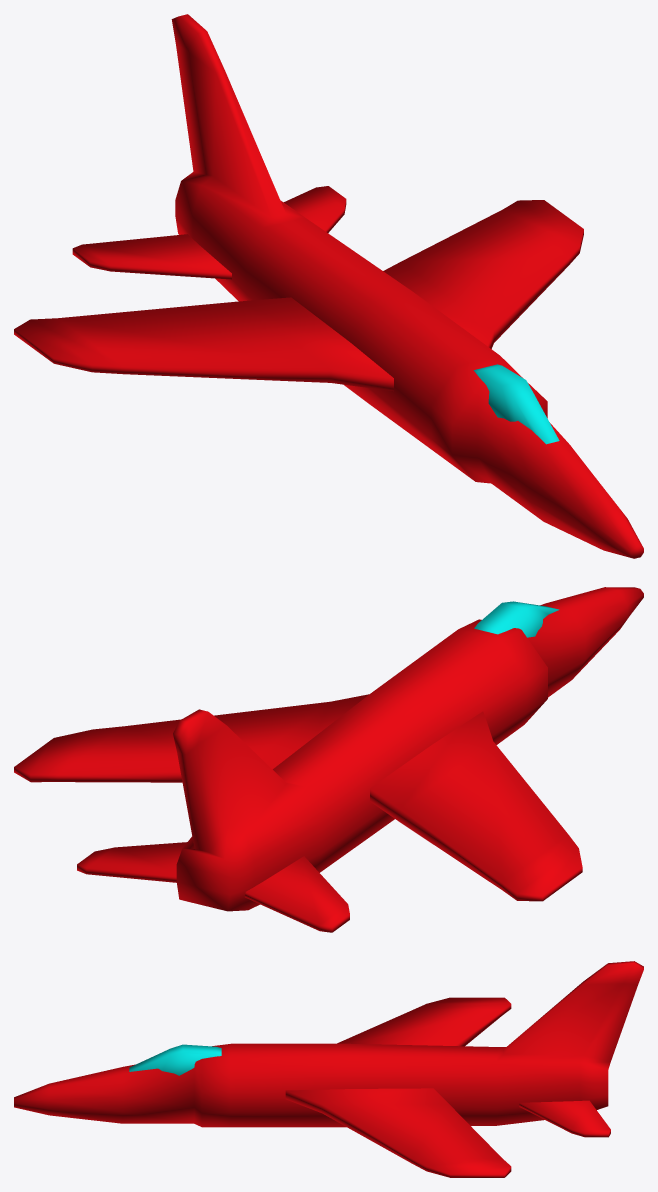
File: jetfighter.glb
The picture shows the model from 3 angles, top to bottom: view 1: azimuth 30°, elevation 25°; view 2: azimuth 150°, elevation 25°; view 3: azimuth 270°, elevation 25°; orthographic projection. The views are drawn at different scales.
Visible parts, largest first — view 1: JF Fuselage, JF Wing, JF Tail, JF Cockpit; view 2: JF Fuselage, JF Wing, JF Tail, JF Cockpit; view 3: JF Fuselage, JF Wing, JF Tail, JF Cockpit.
Part boxes in pixels (x1,y1,x2,y2): JF Fuselage: (171, 14, 643, 558); JF Wing: (14, 200, 583, 391); JF Tail: (72, 186, 346, 279); JF Cockpit: (473, 364, 559, 444); JF Fuselage: (173, 587, 643, 911); JF Wing: (14, 694, 582, 901); JF Tail: (77, 842, 349, 932); JF Cockpit: (474, 601, 559, 637); JF Fuselage: (14, 961, 643, 1127); JF Wing: (285, 997, 511, 1177); JF Tail: (519, 1100, 610, 1137); JF Cockpit: (129, 1044, 221, 1075).
Size of the model in its own units: 6.07 by 2.51 by 9.15.
